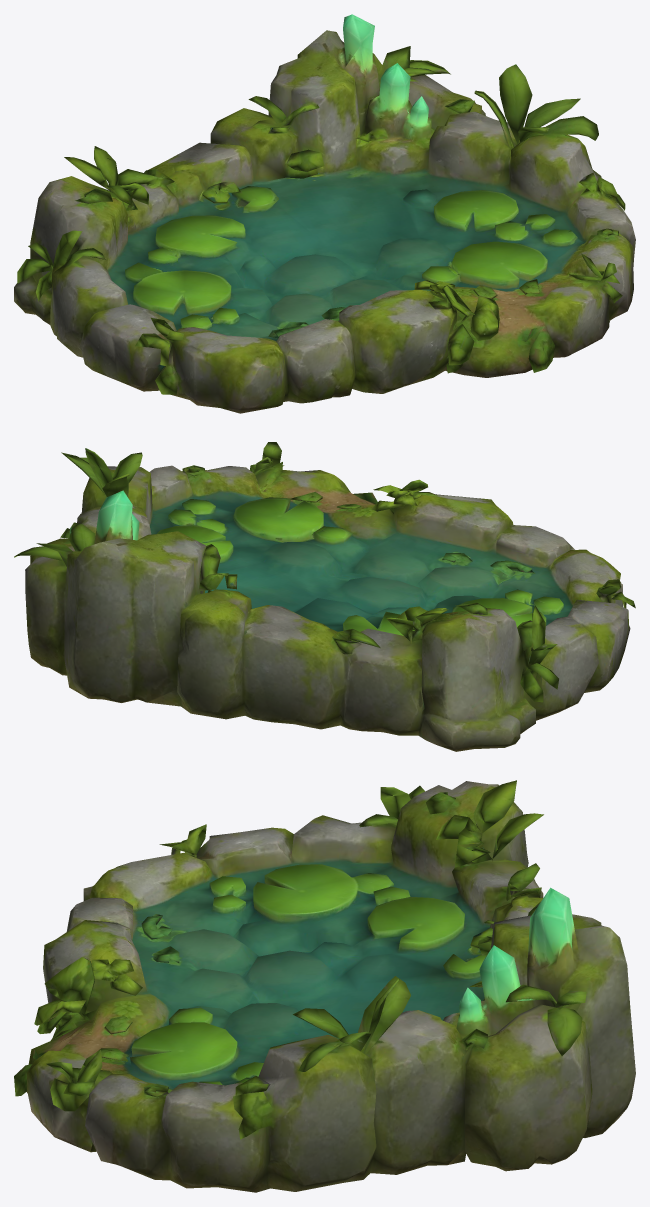
Rendered from decor_3.fbx.
The picture shows the model from 3 angles, top to bottom: view 1: azimuth 30°, elevation 25°; view 2: azimuth 150°, elevation 25°; view 3: azimuth 270°, elevation 25°; orthographic projection. The views are drawn at different scales.
Parts seen in each view (by area): view 1: decor_3; view 2: decor_3; view 3: decor_3.
Boxes of the visible parts, <box> form: decor_3: <box>14,14,635,413</box>; decor_3: <box>14,442,635,751</box>; decor_3: <box>14,780,635,1192</box>.
Bounding box in the file's own units: 1.6 × 0.5417 × 1.34.
Materials: 1 (1 with a texture image).
